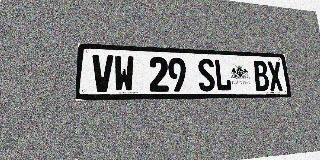2: (149, 57, 169, 92)
9: (168, 57, 187, 92)
B: (253, 61, 270, 91)
L: (214, 59, 232, 91)
S: (197, 58, 216, 91)
V: (91, 54, 113, 92)
W: (114, 55, 134, 92)
X: (267, 61, 284, 91)
